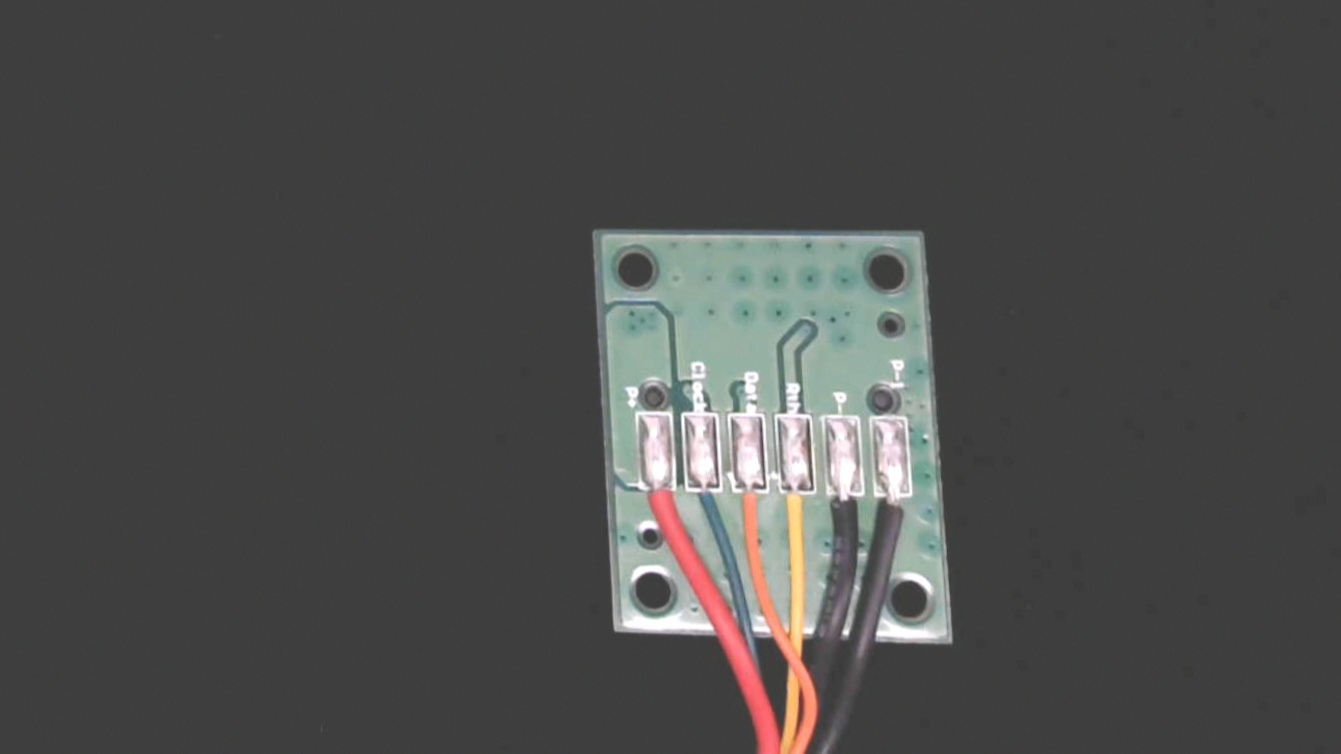Black: (828, 475, 867, 559)
Black1: (874, 476, 920, 562)
Green: (683, 469, 728, 538)
Orange: (732, 471, 774, 554)
Red: (640, 467, 681, 553)
Yellow: (777, 473, 825, 567)
